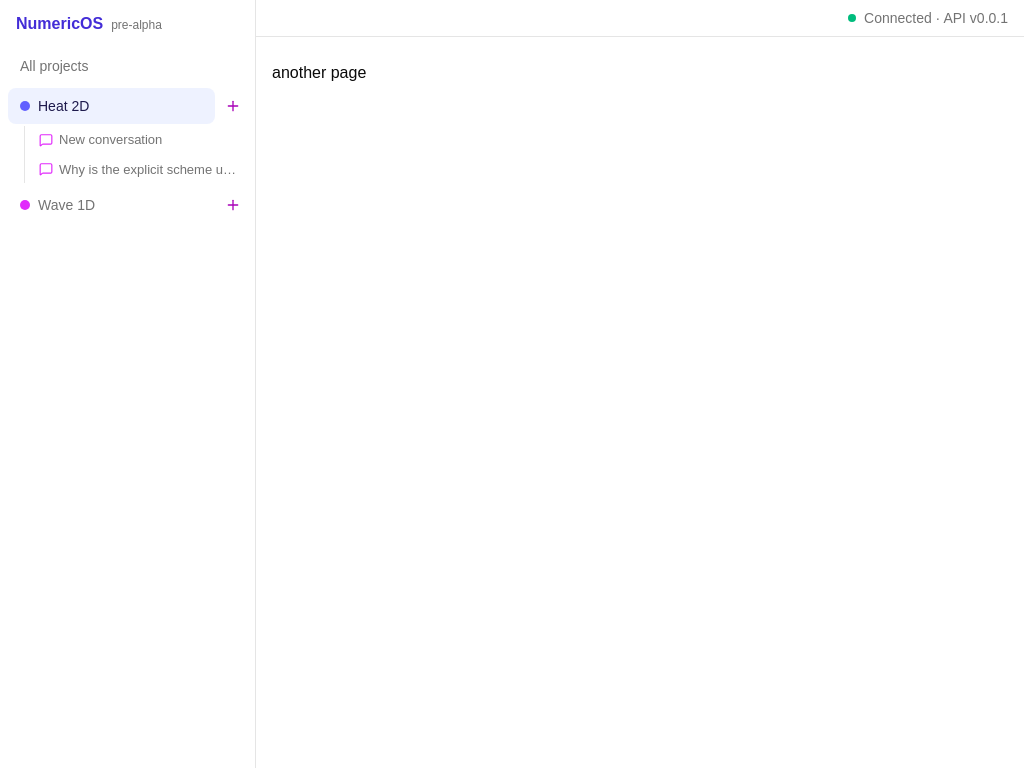
it: AppShell › opens the conversation in which nothing was asked yet instead of a second empty one
Check: the link "New conversation" is shown, box [39,132,162,147]
Click the button named "New conversation in Heat 2D" at x=233, y=106, box [219,92,247,120]
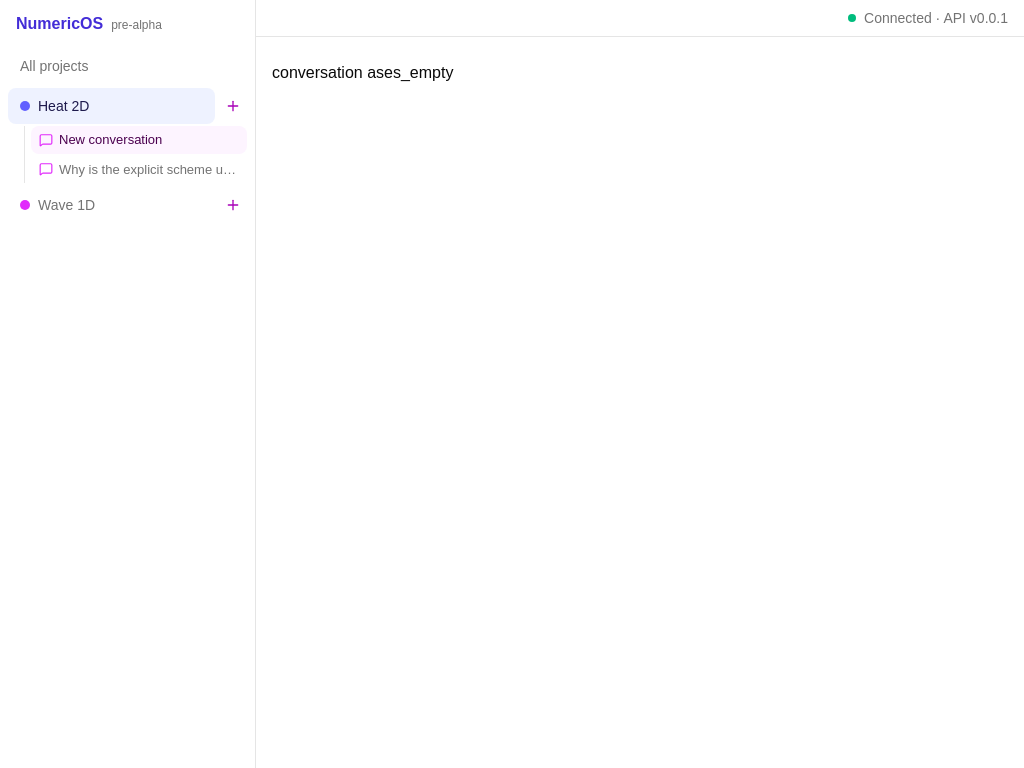
Check: the text "conversation ases_empty" is shown, box [272,64,453,81]
